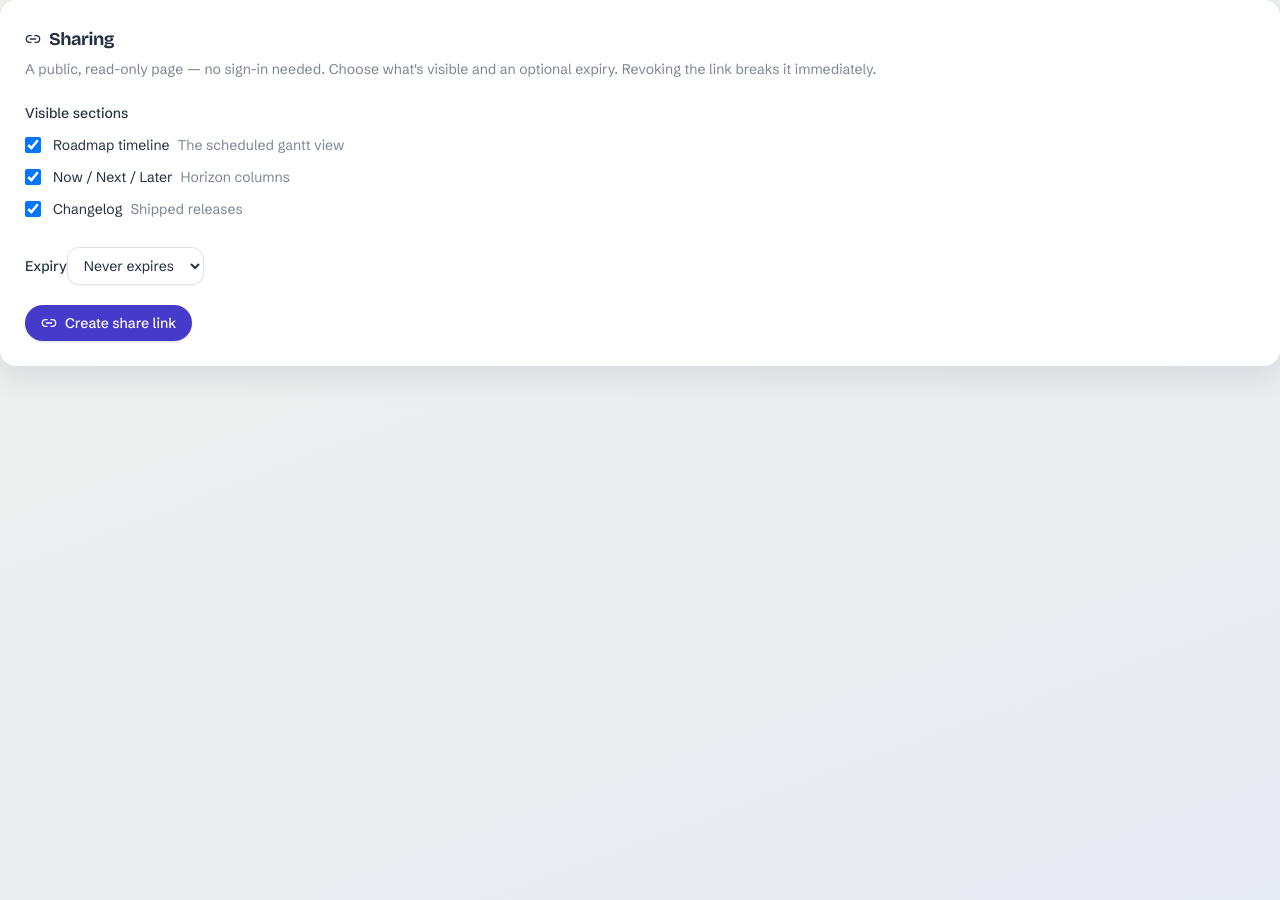
Test: SharingBlock › disables create until at least one section is selected
The image size is (1280, 900).
Click the checkbox labelled "Roadmap timeline".
click(33, 145)  # box [25, 137, 41, 153]
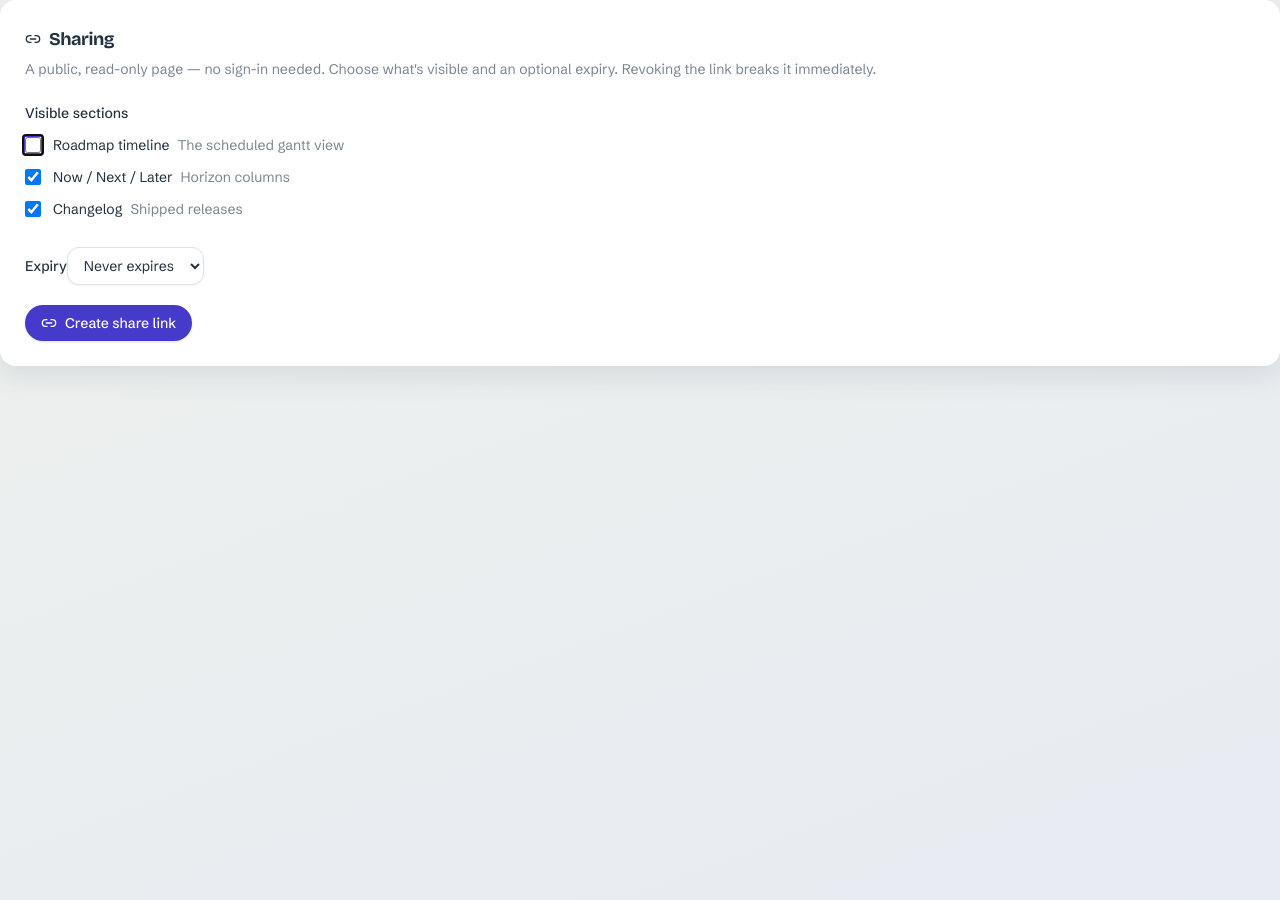
Click the checkbox labelled "Now / Next / Later".
click(33, 177)  # box [25, 169, 41, 185]
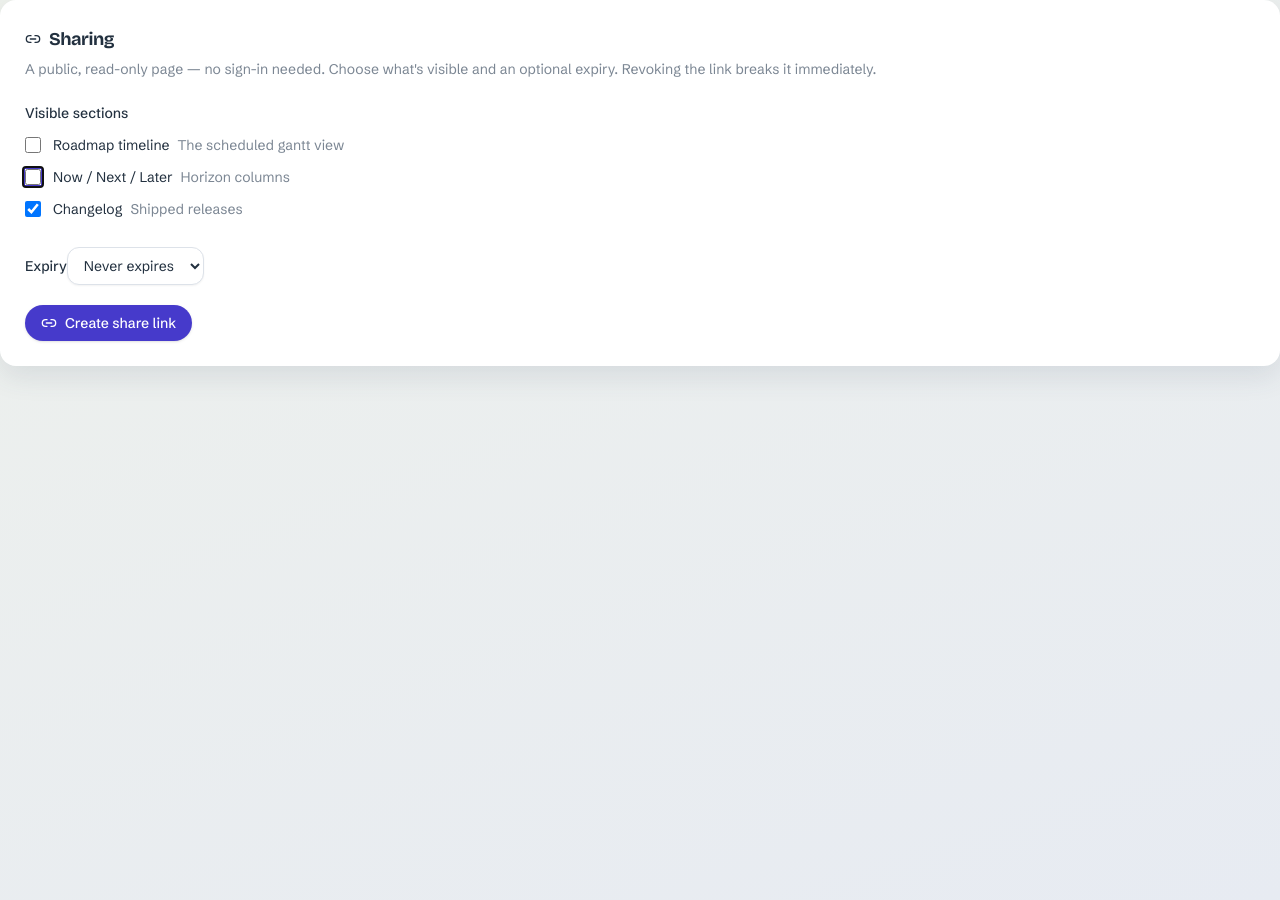
Click the checkbox labelled "Changelog".
click(33, 209)  # box [25, 201, 41, 217]
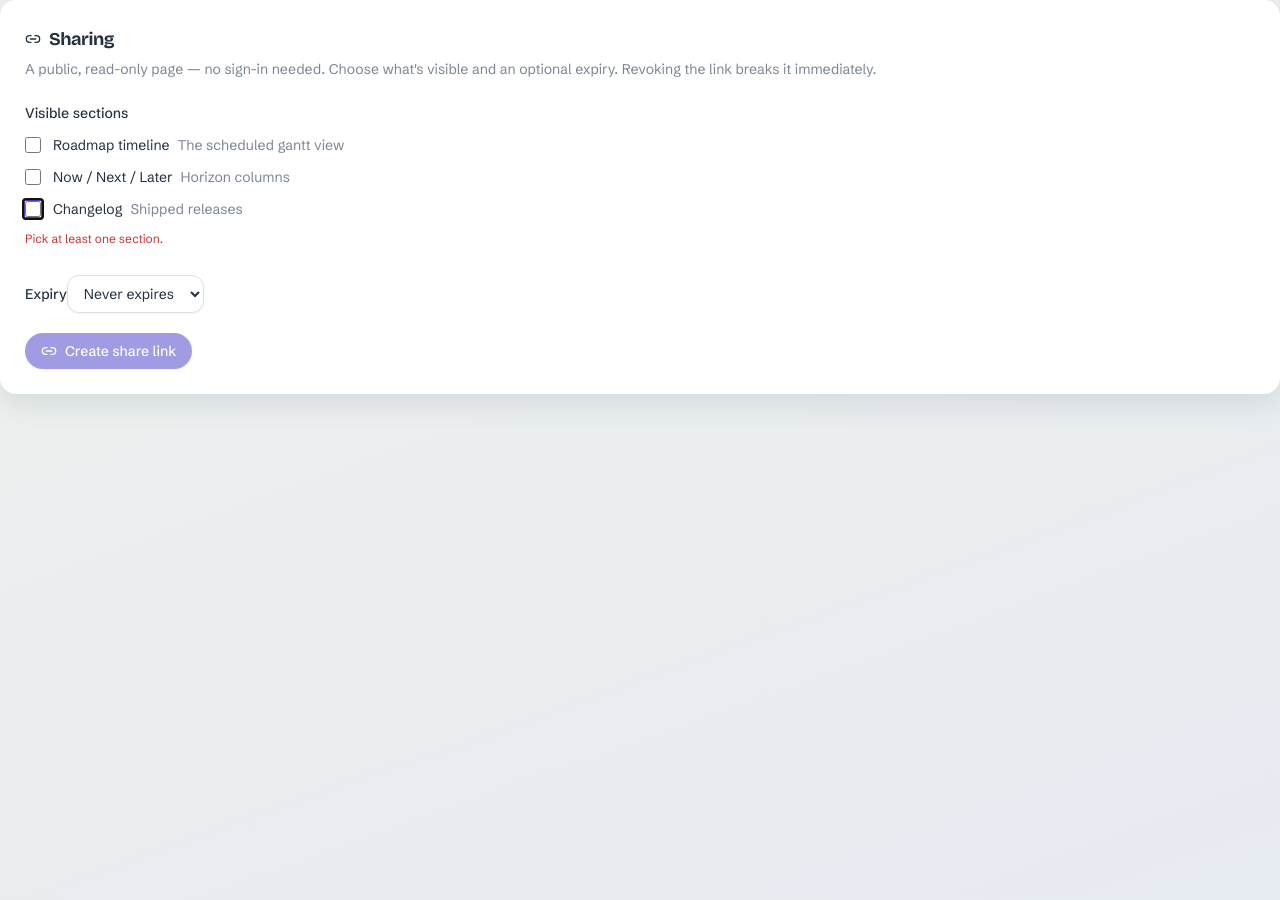
Expected: the button "Create share link" is disabled, [25, 333, 192, 369]
Expected: the text "Pick at least one section." is shown, [25, 231, 163, 246]
